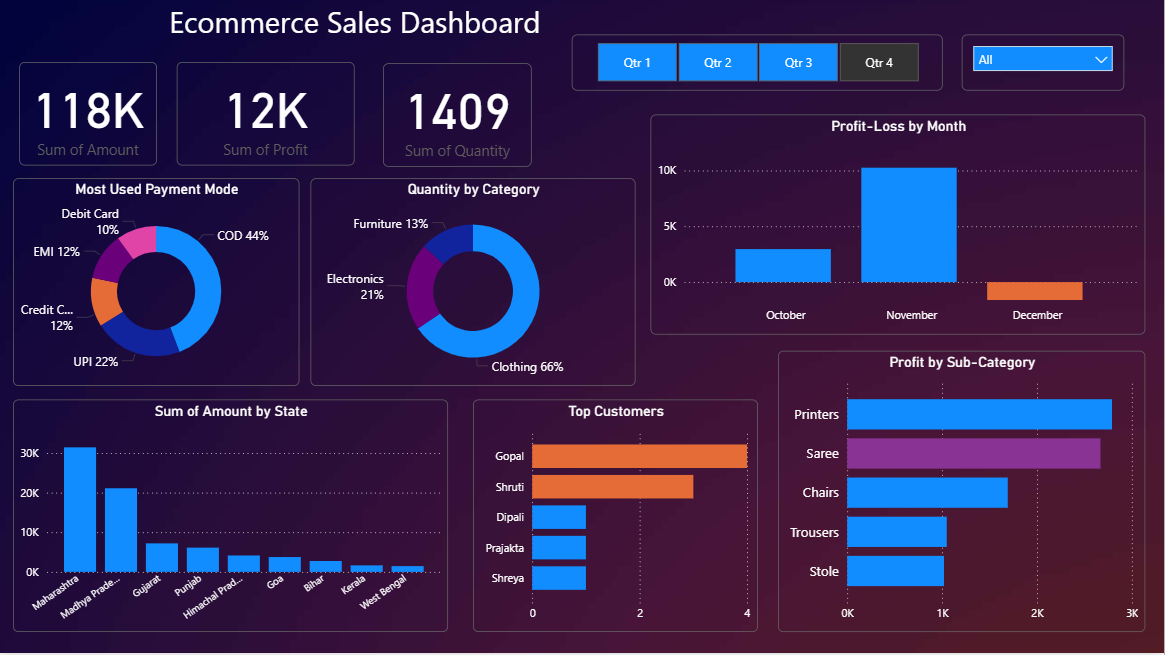

This screenshot's page, from the dashboard's own definition file:
{"tool":"powerbi","page":{"name":"Page 1","canvas":[1280,720],"ordinal":0},"visuals":[{"type":"columnChart","title":"Profit-Loss by Month","fields":{"Y":["Details.Profit"],"Category":["Orders.Order Date.Variation.Date Hierarchy.Month"]},"box":[716.3,129,543.4,241.5],"z":0},{"type":"textbox","box":[174.3,0,433.6,52.1],"z":1000},{"type":"barChart","title":" Profit by Sub-Category","fields":{"Category":["Details.Sub-Category"],"Y":["Details.Profit"]},"box":[856.3,388.3,403.4,308.7],"z":2000},{"type":"donutChart","title":" Quantity by Category","fields":{"Category":["Details.Category"],"Y":["Details.Quantity"]},"box":[343.1,199,356.8,227.8],"z":3000},{"type":"donutChart","title":"Most Used Payment Mode","fields":{"Y":["Details.Quantity"],"Category":["Details.PaymentMode"]},"box":[16.5,199,314.2,227.8],"z":4000},{"type":"barChart","title":"Top Customers ","fields":{"Category":["Orders.CustomerName"],"Y":["Details.Order ID"]},"box":[521.4,441.9,312.9,255.2],"z":5000},{"type":"clusteredColumnChart","fields":{"Category":["Orders.State"],"Y":["Details.Amount"]},"box":[16.5,441.9,477.5,255.2],"z":6000},{"type":"card","fields":{"Values":["Details.Amount"]},"box":[23.3,71.4,150.9,113.9],"z":7000},{"type":"card","fields":{"Values":["Details.Profit"]},"box":[196.2,71.4,194.9,113.9],"z":8000},{"type":"card","fields":{"Values":["Details.Quantity"]},"box":[422.6,72.7,163.3,113.9],"z":9000},{"type":"slicer","fields":{"Values":["Orders.Order Date.Variation.Date Hierarchy.Quarter"]},"box":[629.8,41.2,407.5,61.7],"z":10000},{"type":"slicer","fields":{"Values":["Orders.State"]},"box":[1058,41.2,178.4,61.7],"z":10001}]}

Visuals, with their boxes in screenshot pixels (x1, y1, x2, y2), scaled from the page's 1280x720 canvas onto the 1165x655 screenshot:
"Profit-Loss by Month" columnChart: bbox=[652, 117, 1147, 337]
textbox: bbox=[159, 0, 553, 47]
" Profit by Sub-Category" barChart: bbox=[779, 353, 1147, 634]
" Quantity by Category" donutChart: bbox=[312, 181, 637, 388]
"Most Used Payment Mode" donutChart: bbox=[15, 181, 301, 388]
"Top Customers " barChart: bbox=[475, 402, 759, 634]
clusteredColumnChart - Orders.State x Details.Amount: bbox=[15, 402, 450, 634]
card - Details.Amount: bbox=[21, 65, 159, 169]
card - Details.Profit: bbox=[179, 65, 356, 169]
card - Details.Quantity: bbox=[385, 66, 533, 170]
slicer - Orders.Order Date.Variation.Date Hierarchy.Quarter: bbox=[573, 37, 944, 94]
slicer - Orders.State: bbox=[963, 37, 1125, 94]
